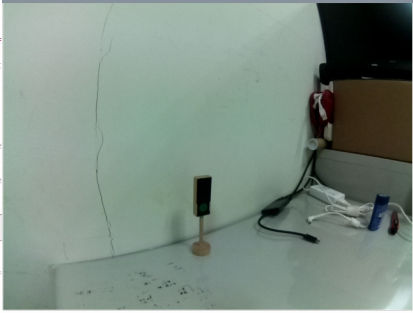Green: (191, 176, 215, 220)
